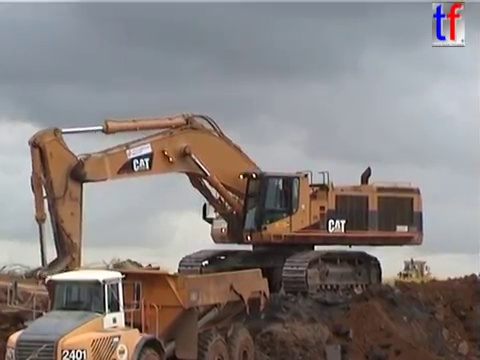excavator: (23, 110, 427, 307)
motor grader: (394, 256, 436, 290)
truck: (2, 263, 271, 360)
